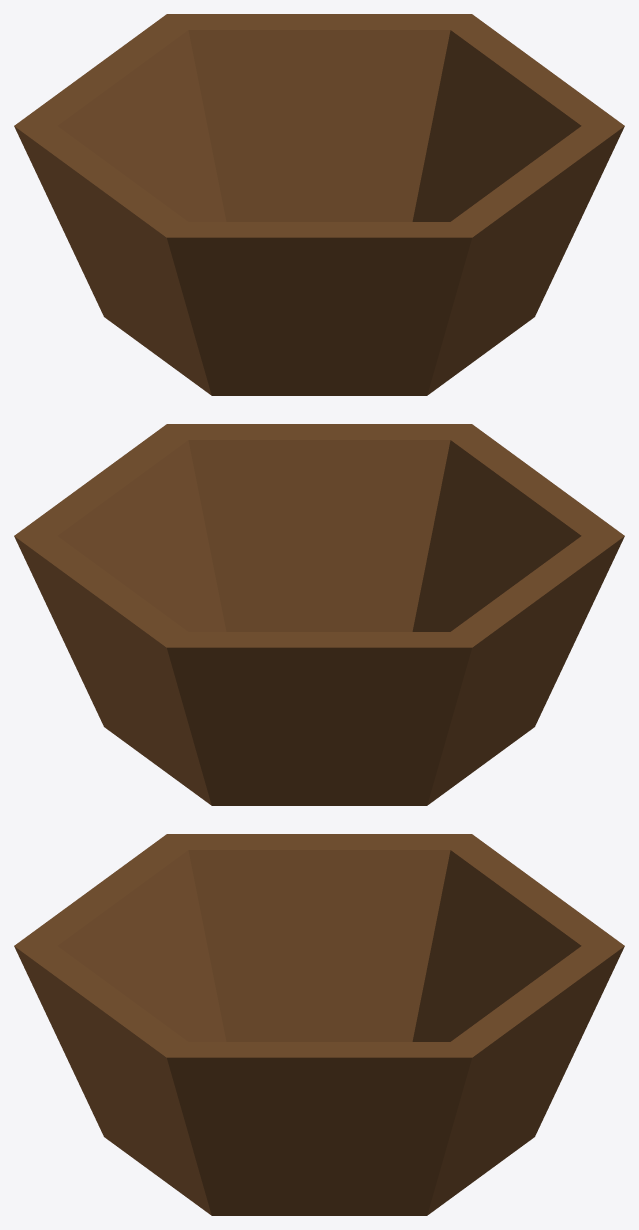
Rendered from Bowl.fbx.
3 renders of one model, top to bottom at view 1: azimuth 30°, elevation 25°; view 2: azimuth 150°, elevation 25°; view 3: azimuth 270°, elevation 25°, orthographic.
Parts seen in each view (by area): view 1: Bowl; view 2: Bowl; view 3: Bowl.
Part boxes in pixels (box(x1,y1,x2,y2)): Bowl: box(14, 14, 624, 395); Bowl: box(14, 424, 624, 805); Bowl: box(14, 834, 624, 1215).
Size of the model in its own units: 0.2835 by 0.113 by 0.3274.
